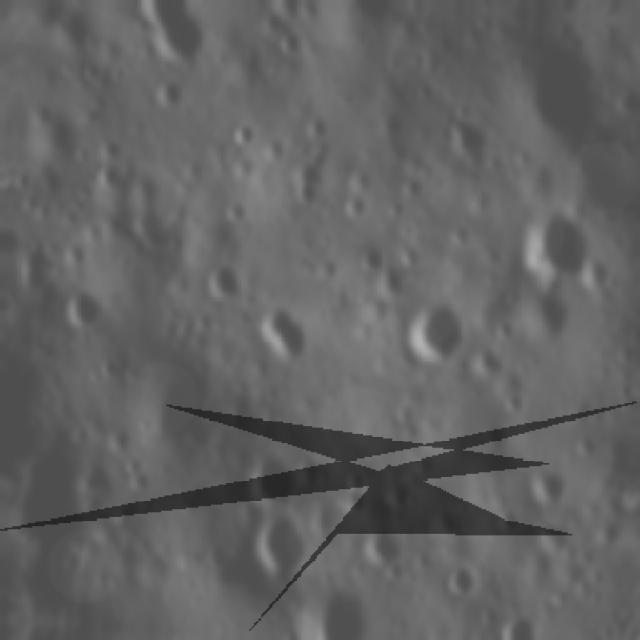crater: (119, 0, 212, 63), (526, 214, 594, 281), (245, 519, 312, 583), (398, 300, 454, 372), (56, 290, 113, 344), (307, 592, 367, 639), (256, 310, 298, 368), (245, 461, 301, 504), (352, 522, 405, 562), (528, 465, 564, 507), (496, 607, 541, 640), (434, 565, 474, 600), (202, 264, 233, 301), (494, 508, 517, 538)
